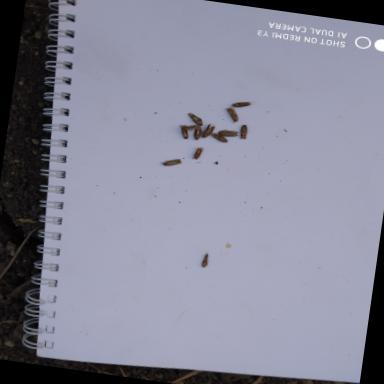pbw: (222, 105, 240, 123), (161, 156, 183, 170), (185, 110, 204, 126), (200, 122, 216, 141), (216, 128, 238, 141), (208, 131, 228, 145), (230, 98, 255, 108), (182, 122, 201, 134), (176, 124, 189, 140), (238, 122, 249, 140), (190, 126, 203, 141), (192, 146, 204, 162), (200, 252, 210, 270), (223, 240, 233, 250)
